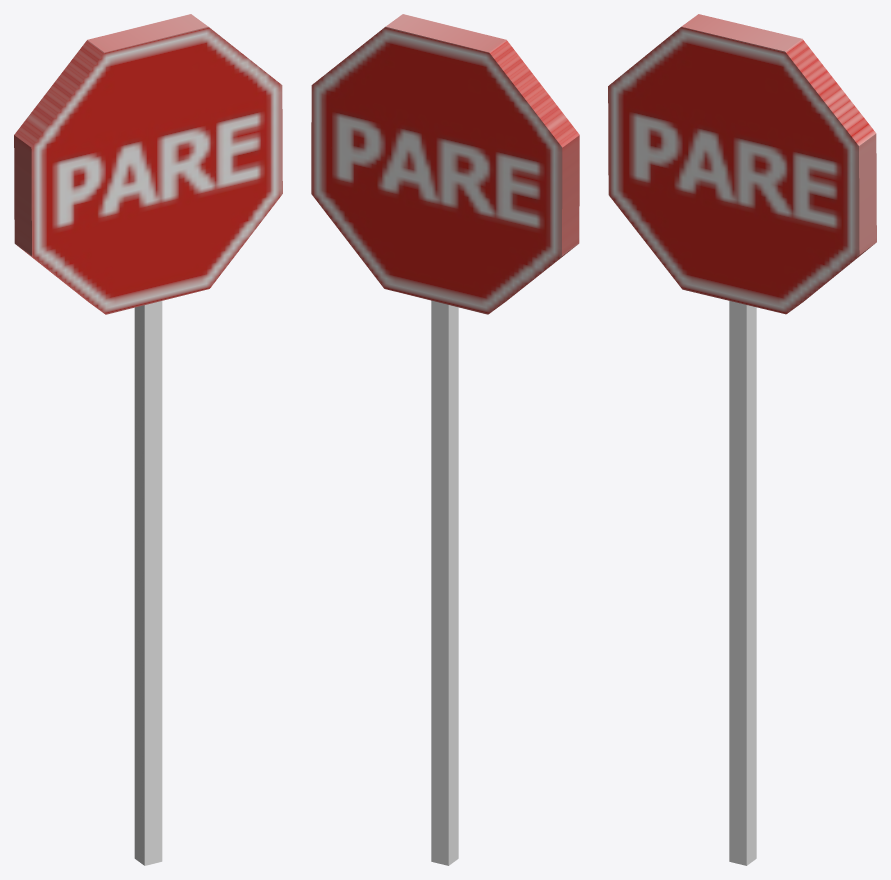
Rendered from PlacaPare.fbx.
3 views of the same model, side by side, from view 1: azimuth 30°, elevation 25°; view 2: azimuth 150°, elevation 25°; view 3: azimuth 330°, elevation 25° (orthographic).
Visible parts, largest first — view 1: Placa-Pare-13; view 2: Placa-Pare-13; view 3: Placa-Pare-13.
Part boxes in pixels (box(x1,y1,x2,y2)): Placa-Pare-13: box(14, 14, 282, 865); Placa-Pare-13: box(311, 14, 579, 865); Placa-Pare-13: box(608, 14, 876, 865).
Size of the model in its own units: 0.7317 by 2.3 by 0.0877.
